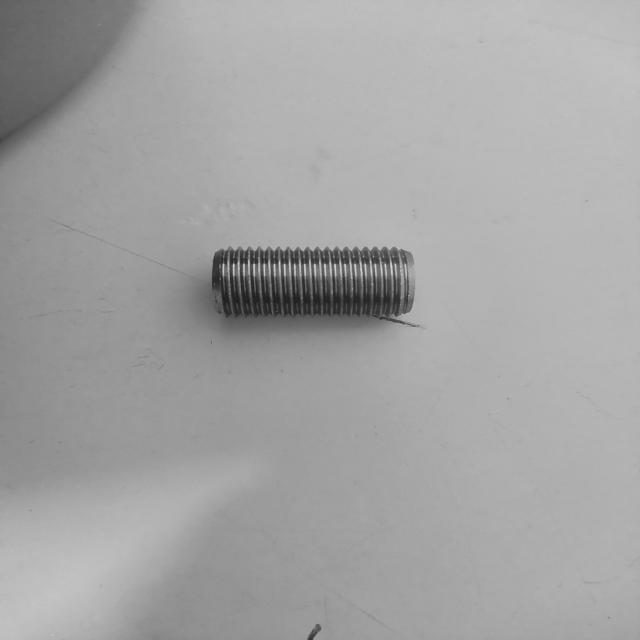Normal: (210, 246, 417, 318)
